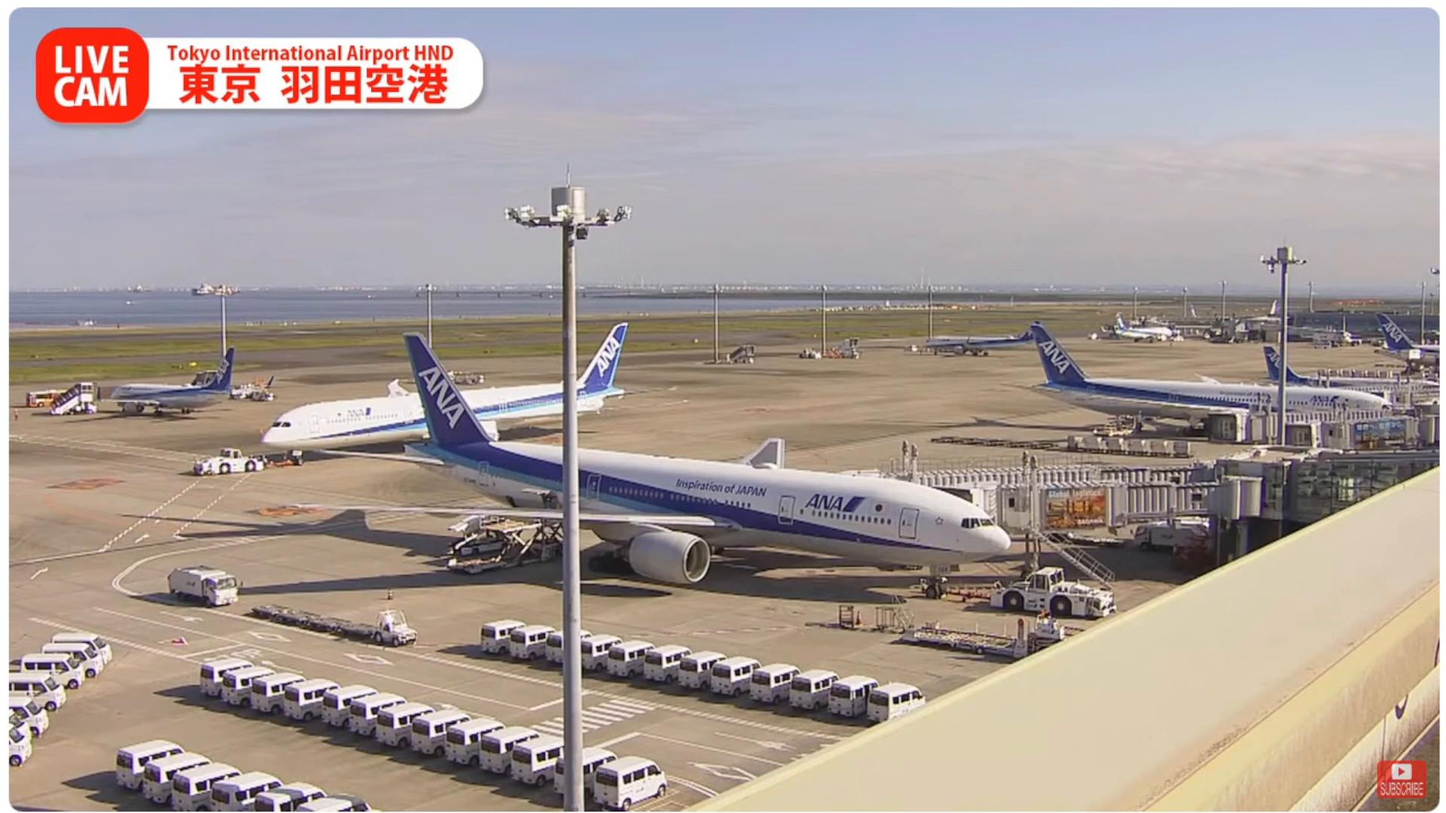APS: (993, 561, 1123, 622)
Aerobridge: (956, 480, 1243, 535), (885, 461, 1213, 481)
Airplane: (290, 330, 1014, 584)
Baggage truck: (163, 555, 245, 607)
Dolly: (247, 599, 377, 640)
JCPL: (902, 615, 1064, 661), (425, 524, 556, 579)
Skyloader: (432, 515, 527, 556)
Tractor: (370, 608, 424, 649)
Window: (1270, 448, 1442, 536)
